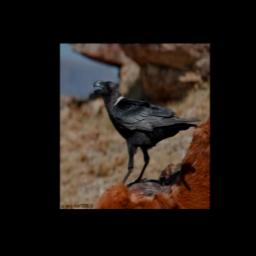Crow: (92, 77, 203, 187)
